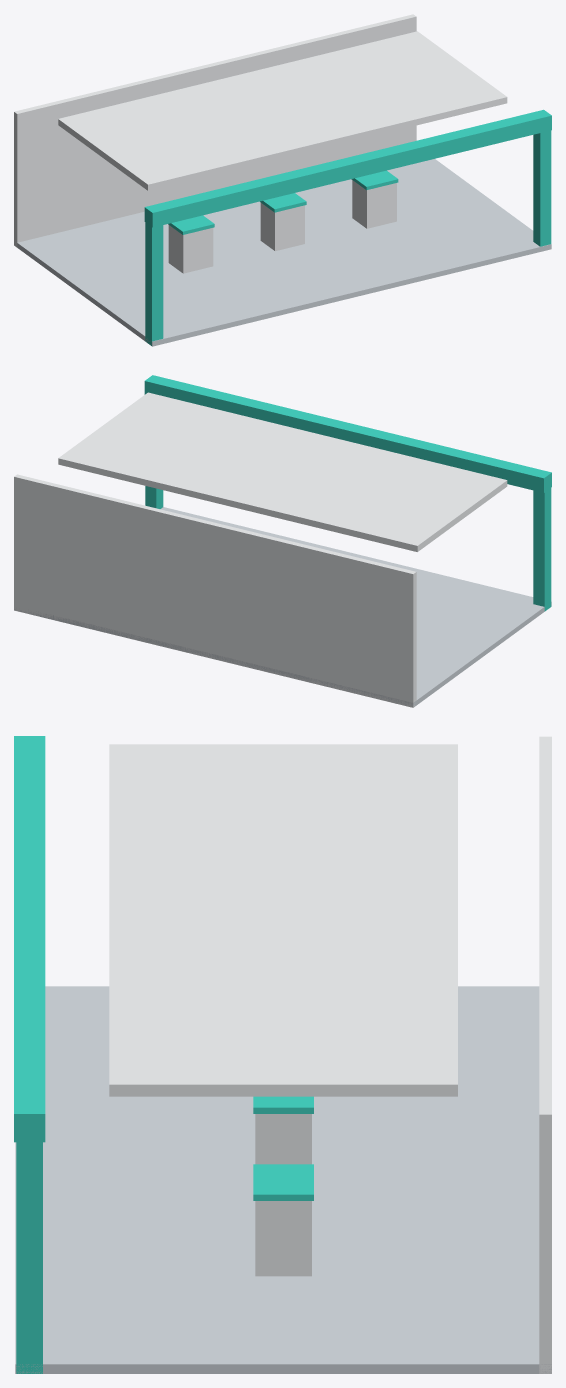
3 views of the same model, one above another, from view 1: azimuth 30°, elevation 25°; view 2: azimuth 150°, elevation 25°; view 3: azimuth 270°, elevation 25° (orthographic). The views are drawn at different scales.
Visible parts, largest first — view 1: Exhibition Booth Concept; view 2: Exhibition Booth Concept; view 3: Exhibition Booth Concept.
Part boxes in pixels (x1=…): Exhibition Booth Concept: x1=14, y1=14, x2=551, y2=346; Exhibition Booth Concept: x1=14, y1=375, x2=551, y2=707; Exhibition Booth Concept: x1=14, y1=736, x2=551, y2=1373.
Size of the model in its own units: 10 by 3.34 by 6.02.
